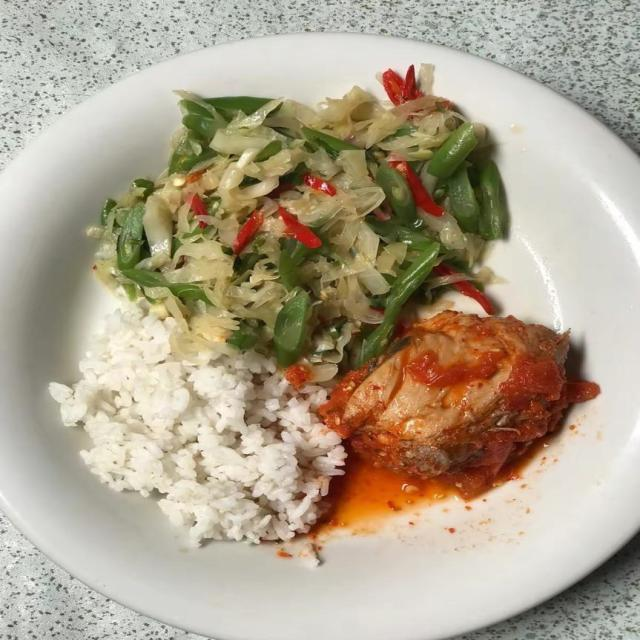Chicken: (323, 307, 587, 506)
Plate: (0, 35, 639, 639)
Rice: (42, 295, 351, 548)
Vegetables: (88, 66, 511, 388)
